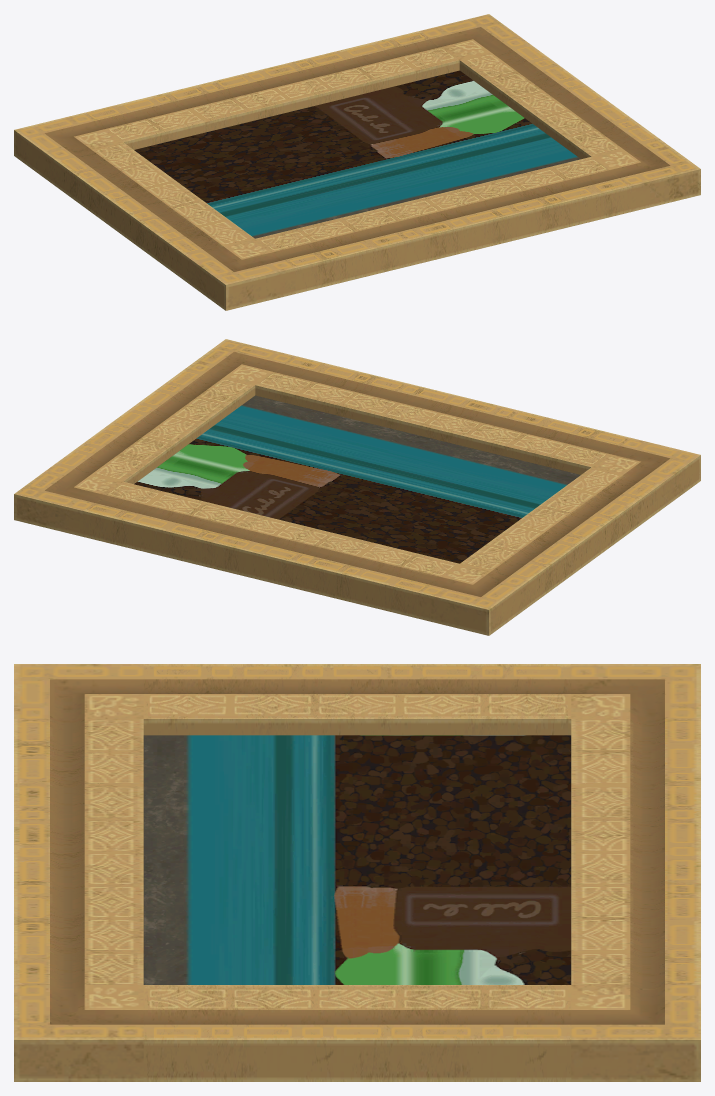
File: art29.fbx
3 renders of one model, top to bottom at view 1: azimuth 30°, elevation 25°; view 2: azimuth 150°, elevation 25°; view 3: azimuth 270°, elevation 25°, orthographic. The views are drawn at different scales.
Visible parts, largest first — view 1: mFrameGold2_low__mFrameGold2, Ophelia__mBody; view 2: mFrameGold2_low__mFrameGold2, Ophelia__mBody; view 3: mFrameGold2_low__mFrameGold2, Ophelia__mBody.
Part boxes in pixels (x1=…): mFrameGold2_low__mFrameGold2: x1=14, y1=14, x2=700, y2=310; Ophelia__mBody: x1=134, y1=70, x2=580, y2=238; mFrameGold2_low__mFrameGold2: x1=14, y1=339, x2=700, y2=635; Ophelia__mBody: x1=134, y1=395, x2=580, y2=563; mFrameGold2_low__mFrameGold2: x1=14, y1=664, x2=700, y2=1081; Ophelia__mBody: x1=143, y1=735, x2=571, y2=984.
Size of the model in its own units: 442 by 23.08 by 342.
